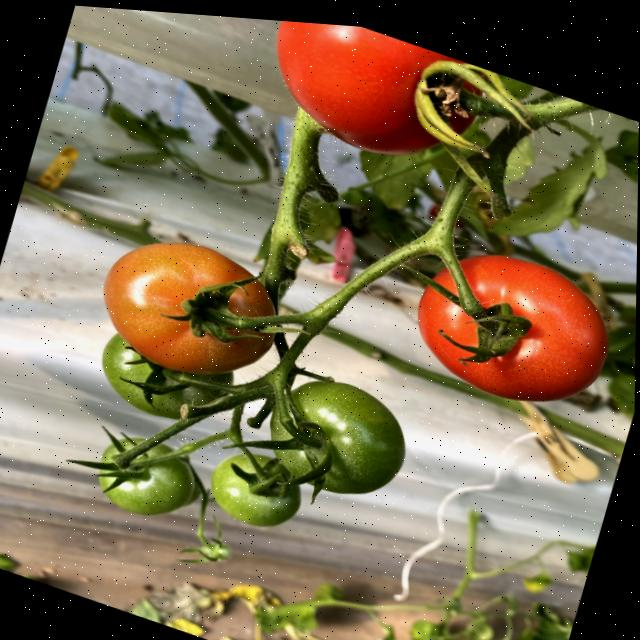ripe0: (259, 365, 416, 513), (87, 422, 202, 528), (202, 443, 310, 541)
ripe2: (401, 229, 627, 429), (252, 21, 490, 183), (85, 218, 292, 401)
